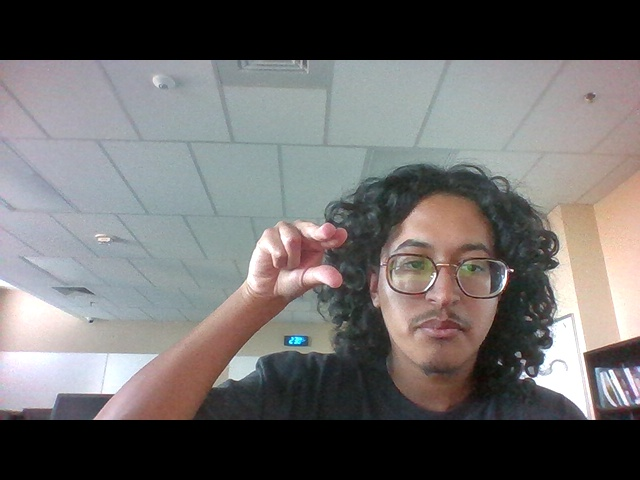no: (240, 206, 357, 309)
